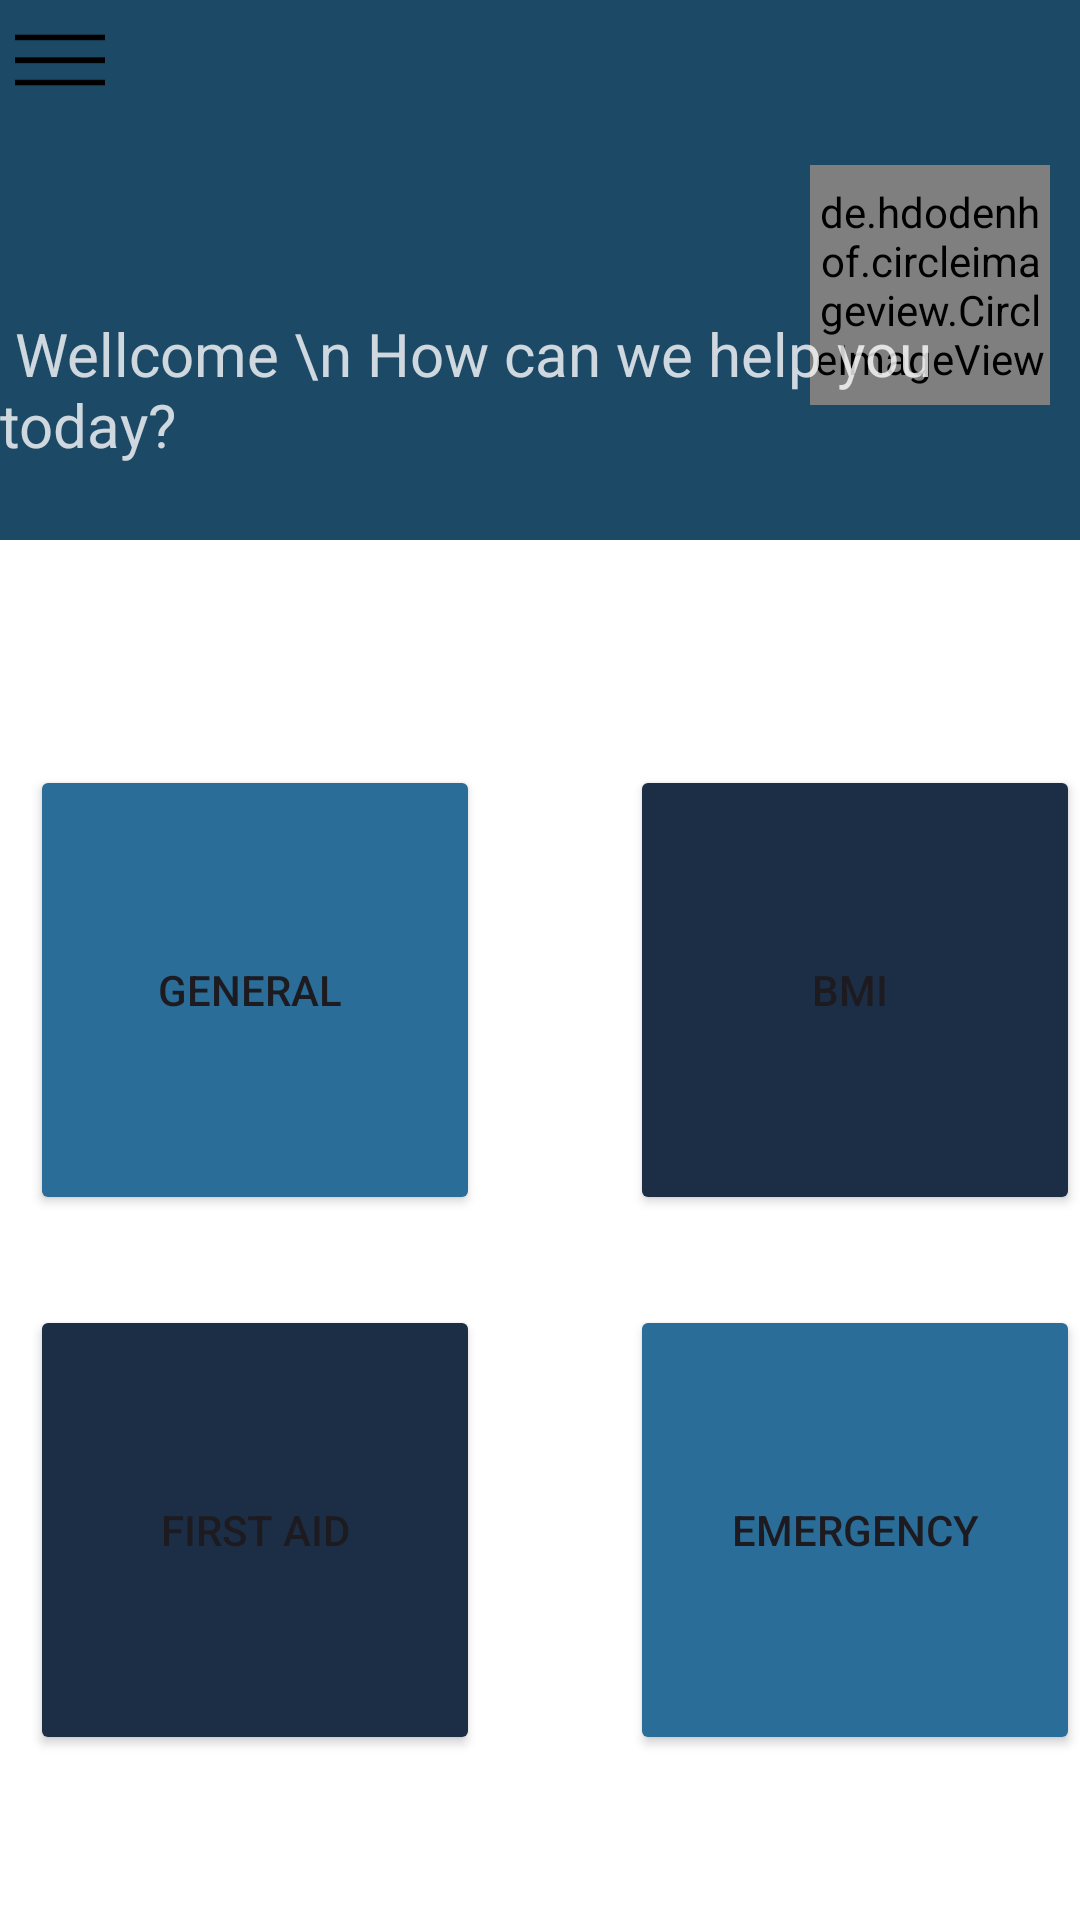

Icon bounding boxes for this 1080 x 1920 phone screenshot, format (x1, y1, x2, y2):
drawer: (15, 34, 105, 86)
